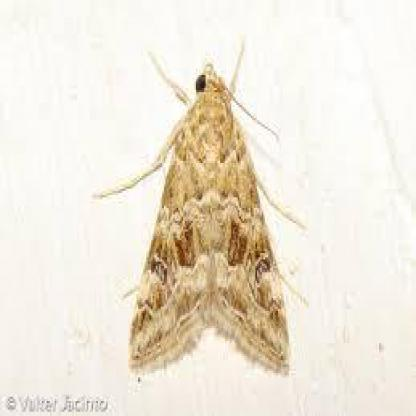Hellula undalis: (78, 37, 312, 385)
